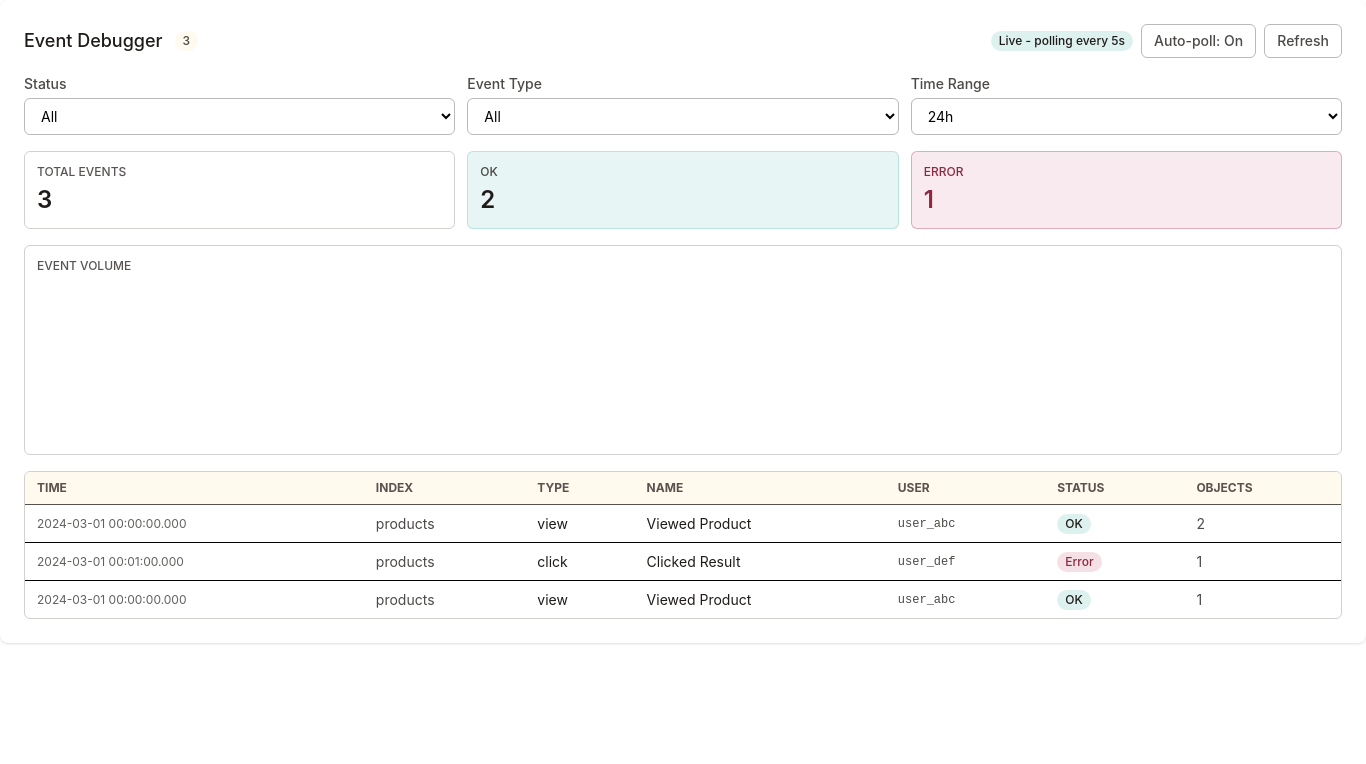
Test case: EventsTab › event detail panel › keeps duplicate identity rows independently selectable
This screenshot has width=1366, height=764.
Click the 2nd row.
click(683, 524)  # box [25,504,1341,542]
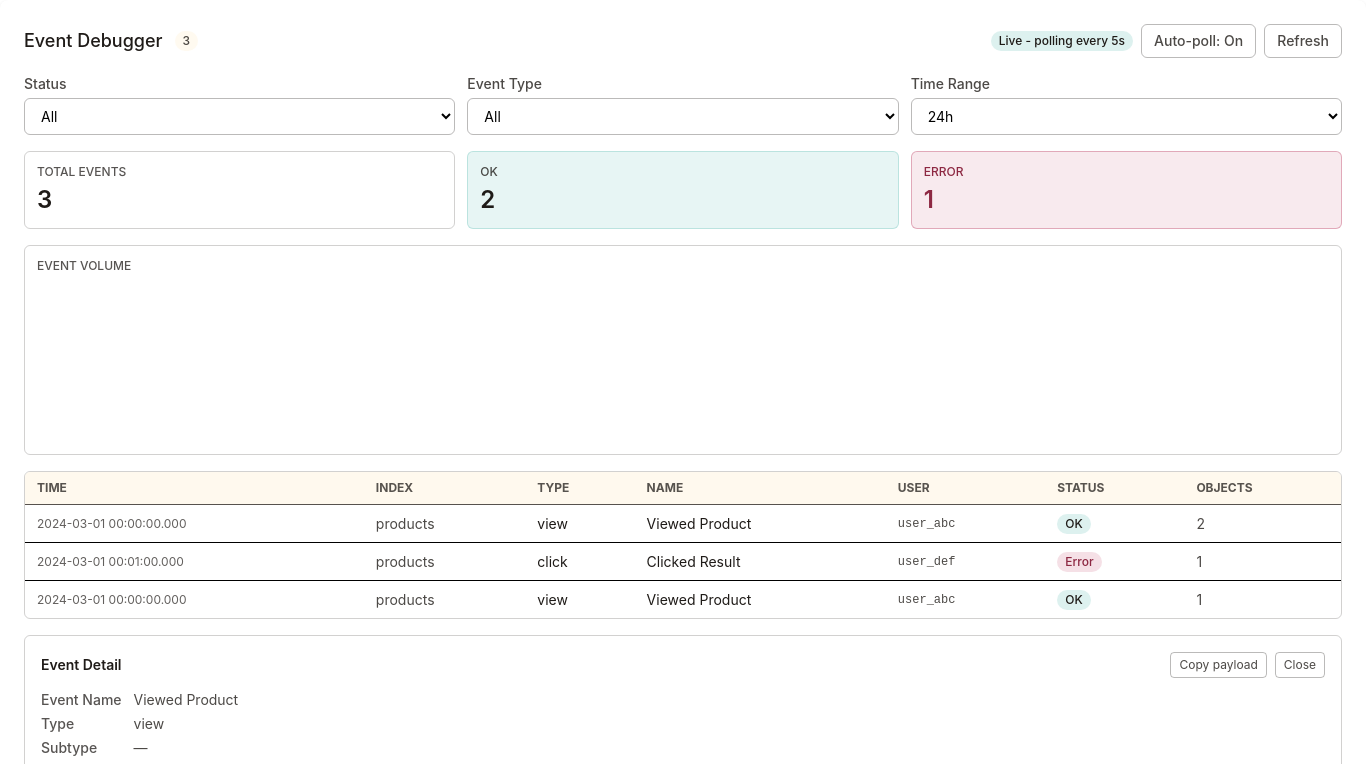
Check: the text "obj9" is not shown
Click the 4th row.
click(683, 599)  # box [25,580,1341,618]
(page scrolled)
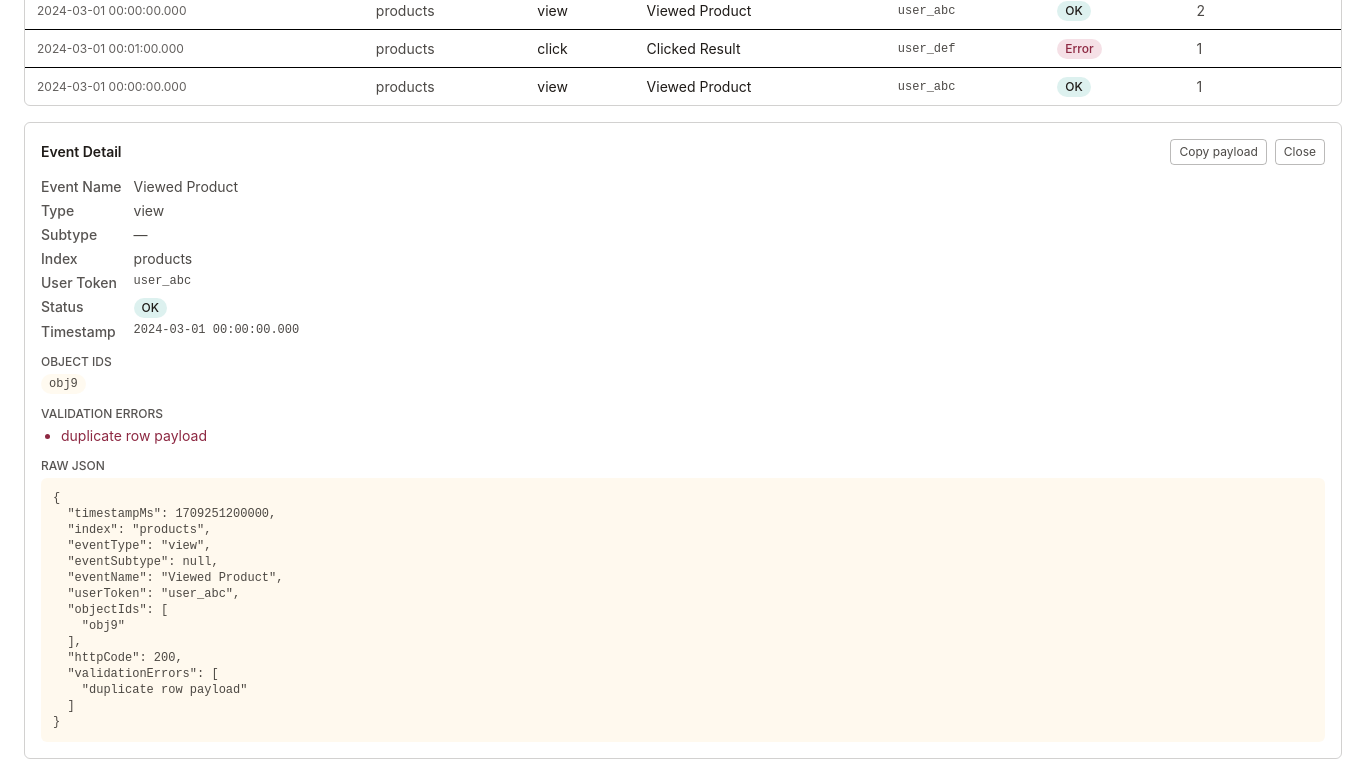
Check: the text "obj9" is shown, box [41,374,86,394]
